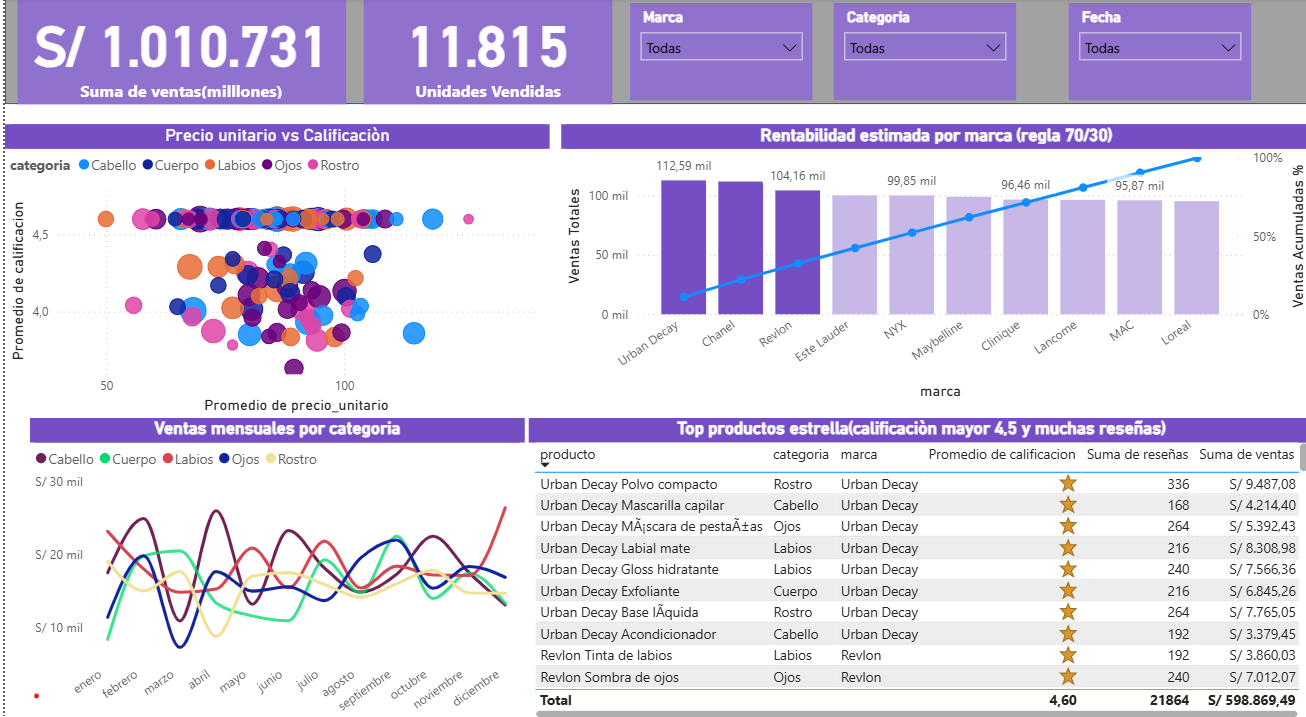

What the dashboard file says about the page in this screenshot:
{"tool":"powerbi","page":{"name":"Página 1","canvas":[1280,720],"ordinal":0},"visuals":[{"type":"shape","box":[0,0,1280,103.8],"z":0},{"type":"lineChart","title":"Ventas mensuales por categoria","fields":{"Y":["Sum(data_cosmeticos_realista.ingreso_total)"],"Series":["data_cosmeticos_realista.categoria"],"Category":["data_cosmeticos_realista.fecha.Variación.Jerarquía de fechas.Mes"]},"box":[28.1,410.9,484.2,309.4],"z":1000},{"type":"card","title":"Ingresos Totales","fields":{"Values":["Sum(data_cosmeticos_realista.ventas)"]},"box":[12.5,0,321.2,103.8],"z":2000},{"type":"tableEx","title":"Top productos estrella(calificaciòn mayor 4,5 y muchas reseñas)","fields":{"Values":["data_cosmeticos_realista.producto","data_cosmeticos_realista.categoria","data_cosmeticos_realista.marca","Avg(data_cosmeticos_realista.calificacion)","Sum(data_cosmeticos_realista.reseñas)","Sum(data_cosmeticos_realista.ventas)"]},"box":[512.4,410.9,767.9,299.6],"z":3000},{"type":"lineStackedColumnComboChart","title":"Rentabilidad estimada por marca (regla 70/30)","fields":{"Y":["data_cosmeticos_realista.Ventas Totales"],"Category":["TablaMarcasVentas.marca"],"Y2":["data_cosmeticos_realista.Ventas Acumuladas %"],"Series":["TablaMarcasVentas.EsTop30"]},"box":[544.2,123.5,733.7,273.9],"z":4000},{"type":"card","fields":{"Values":["Sum(data_cosmeticos_realista.unidades_vendidas)"]},"box":[351,0,243.3,103.9],"z":5000},{"type":"scatterChart","title":"Precio unitario vs Calificaciòn","fields":{"X":["Avg(data_cosmeticos_realista.precio_unitario)"],"Y":["Avg(data_cosmeticos_realista.calificacion)"],"Size":["Sum(data_cosmeticos_realista.unidades_vendidas)"],"Category":["data_cosmeticos_realista.producto"],"Series":["data_cosmeticos_realista.categoria"]},"box":[0,123.5,533.2,287.4],"z":6000},{"type":"slicer","title":"Marca","fields":{"Values":["TablaMarcasVentas.marca"]},"box":[611.4,4.9,178.5,95.4],"z":7000},{"type":"slicer","title":"Marca","fields":{"Values":["data_cosmeticos_realista.categoria"]},"box":[810.7,4.9,178.5,95.4],"z":8000},{"type":"slicer","title":"Marca","fields":{"Values":["data_cosmeticos_realista.NombreMes"]},"box":[1040.6,4.9,178.5,95.4],"z":9000}]}

Visuals, with their boxes in screenshot pixels (x1, y1, x2, y2), scaled from the page's 1280x720 canvas onto the 1306x717 screenshot:
shape: l=0, t=0, r=1305, b=103
"Ventas mensuales por categoria" lineChart: l=29, t=409, r=523, b=716
"Ingresos Totales" card: l=13, t=0, r=340, b=103
"Top productos estrella(calificaciòn mayor 4,5 y muchas reseñas)" tableEx: l=523, t=409, r=1305, b=708
"Rentabilidad estimada por marca (regla 70/30)" lineStackedColumnComboChart: l=555, t=123, r=1304, b=396
card - Sum(data_cosmeticos_realista.unidades_vendidas): l=358, t=0, r=606, b=103
"Precio unitario vs Calificaciòn" scatterChart: l=0, t=123, r=544, b=409
"Marca" slicer: l=624, t=5, r=806, b=100
"Marca" slicer: l=827, t=5, r=1009, b=100
"Marca" slicer: l=1062, t=5, r=1244, b=100
